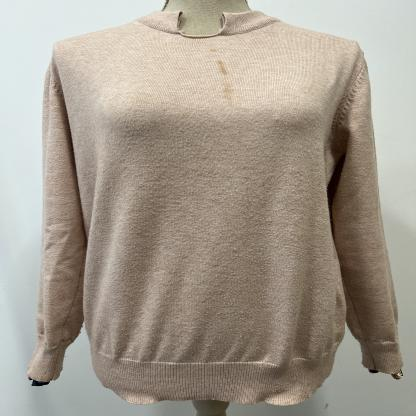stain: (211, 56, 234, 78), (218, 80, 239, 102), (206, 47, 220, 54)
